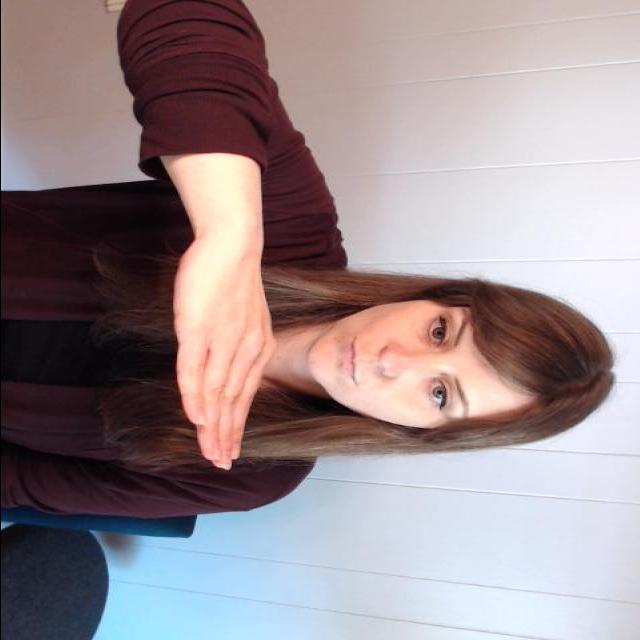Paper: (164, 231, 284, 480)
